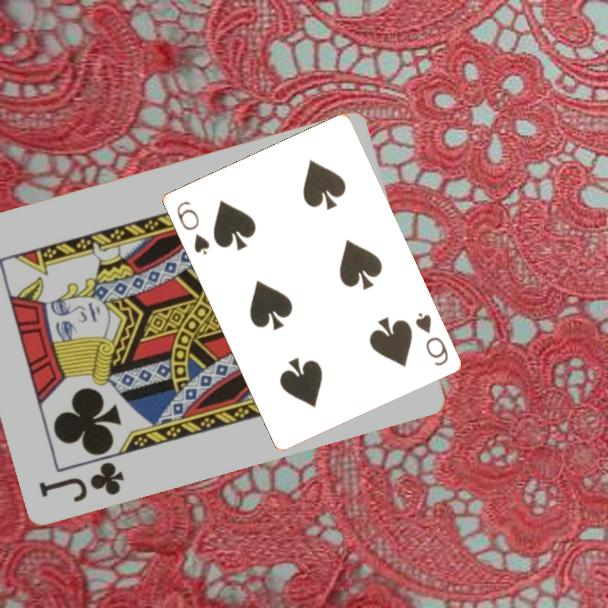c11: (34, 459, 127, 506)
s06: (411, 309, 451, 369), (173, 197, 212, 258)
